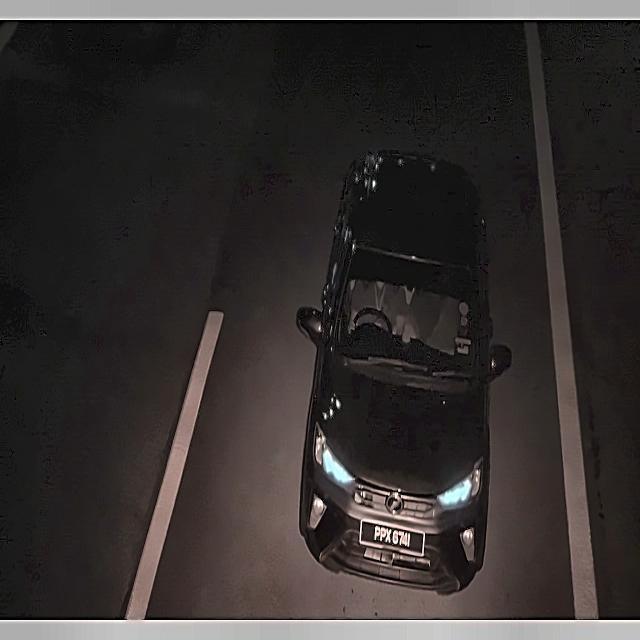car: (356, 512, 429, 560)
